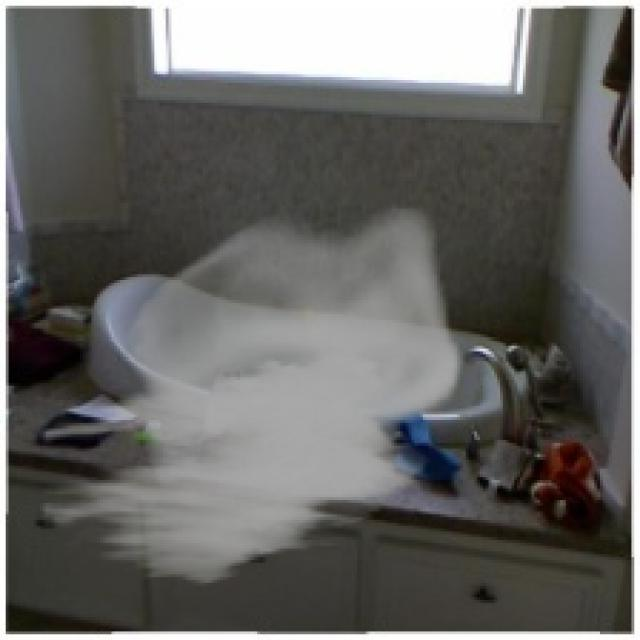Smoke: (40, 206, 463, 588)
